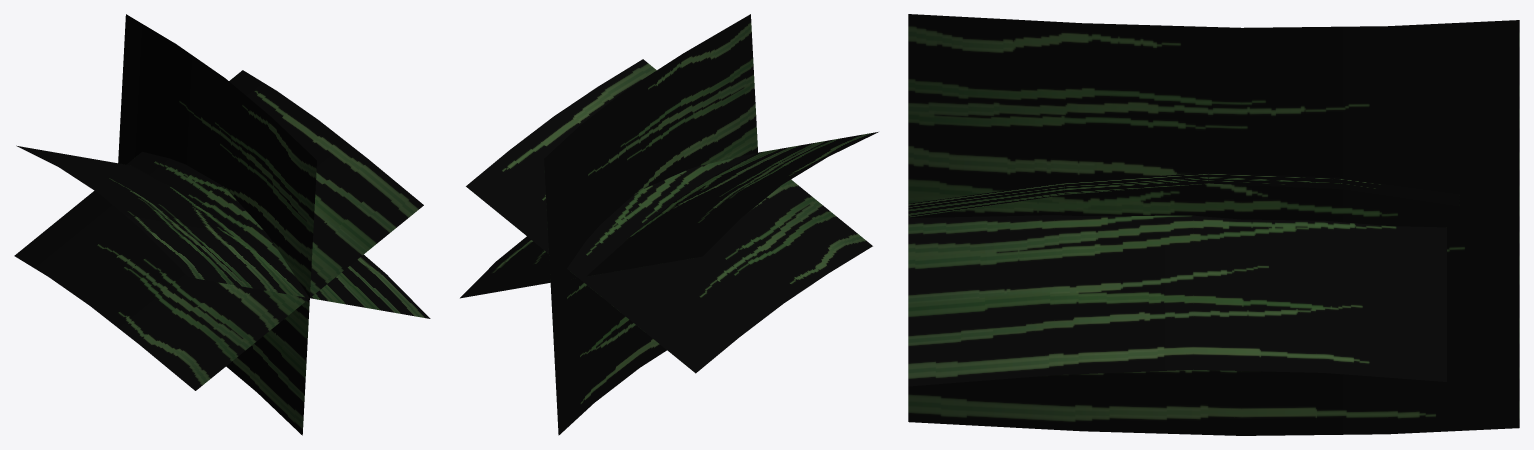
The model's file is Tuft_Woodland.glb.
The picture shows the model from 3 angles, left to right: view 1: azimuth 30°, elevation 25°; view 2: azimuth 150°, elevation 25°; view 3: azimuth 270°, elevation 25°; orthographic projection. The views are drawn at different scales.
Parts seen in each view (by area): view 1: Tuft_Woodland; view 2: Tuft_Woodland; view 3: Tuft_Woodland.
Part boxes in pixels (box(x1,y1,x2,y2)): Tuft_Woodland: box(14, 14, 430, 435); Tuft_Woodland: box(460, 14, 878, 435); Tuft_Woodland: box(908, 14, 1519, 435).
Size of the model in its own units: 0.1529 by 0.1603 by 0.2112.
1 material, 1 textured.
